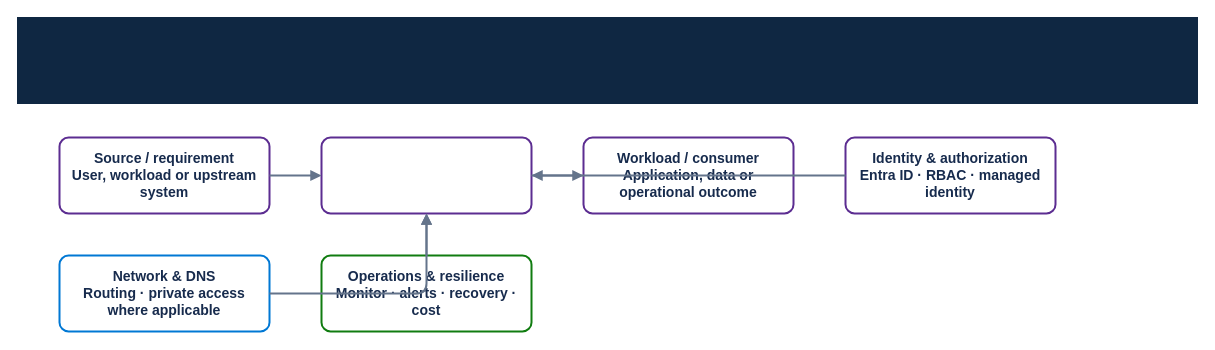
The diagram is 1215 pixels wide and 350 high, and some of its shapes have lost their labels. Here are the shapes that lost their labels. From the top down, the centre of each, then its label:
At point (607, 60): "Managed Identities".
At point (426, 175): "Managed Identities Azure service / architecture control".
